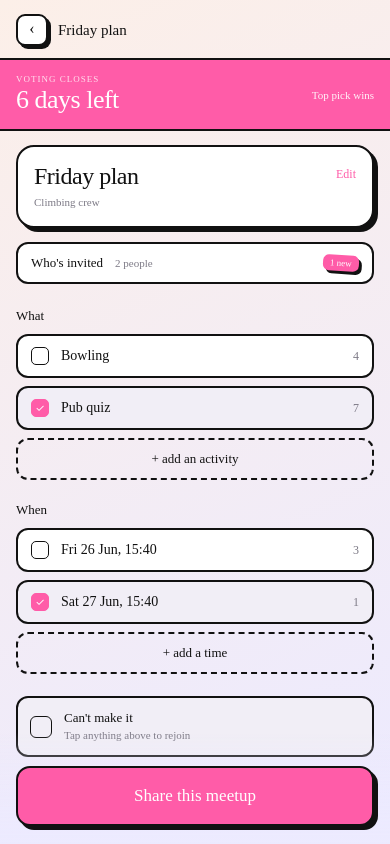
Test case: EventDetail - Who's invited roster + the +1 door (DRP-63) › the Who's invited row shows the distinct headcount and opens the roster sheet
Expected: the text "2 people" is shown, [115, 255, 153, 271]
Click the text "Who's invited" at coordinates (67, 263), box [31, 255, 103, 271]
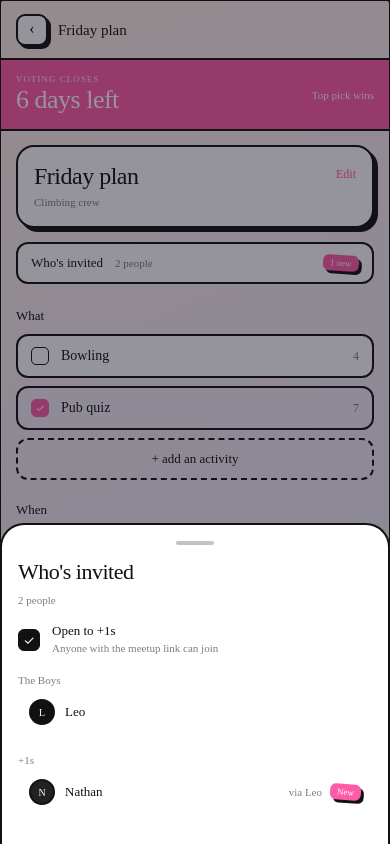
Now the text "The Boys" is shown, box [18, 674, 60, 686]
Now the text "Nathan" is shown, box [65, 784, 102, 800]
Now the text "via Leo" is shown, box [289, 784, 322, 800]
